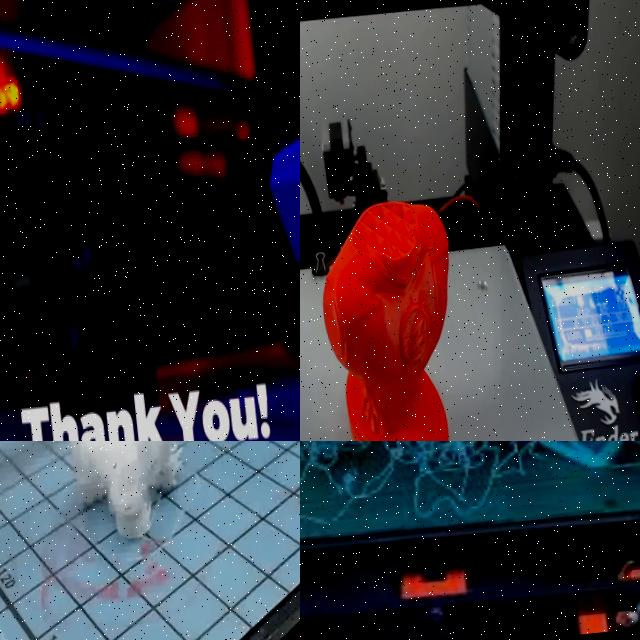spaghetti: (300, 441, 498, 515)
